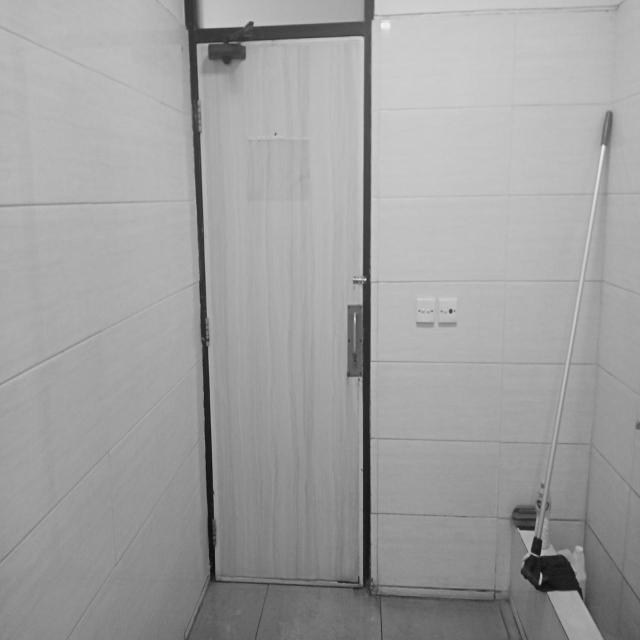door: (190, 21, 372, 592)
